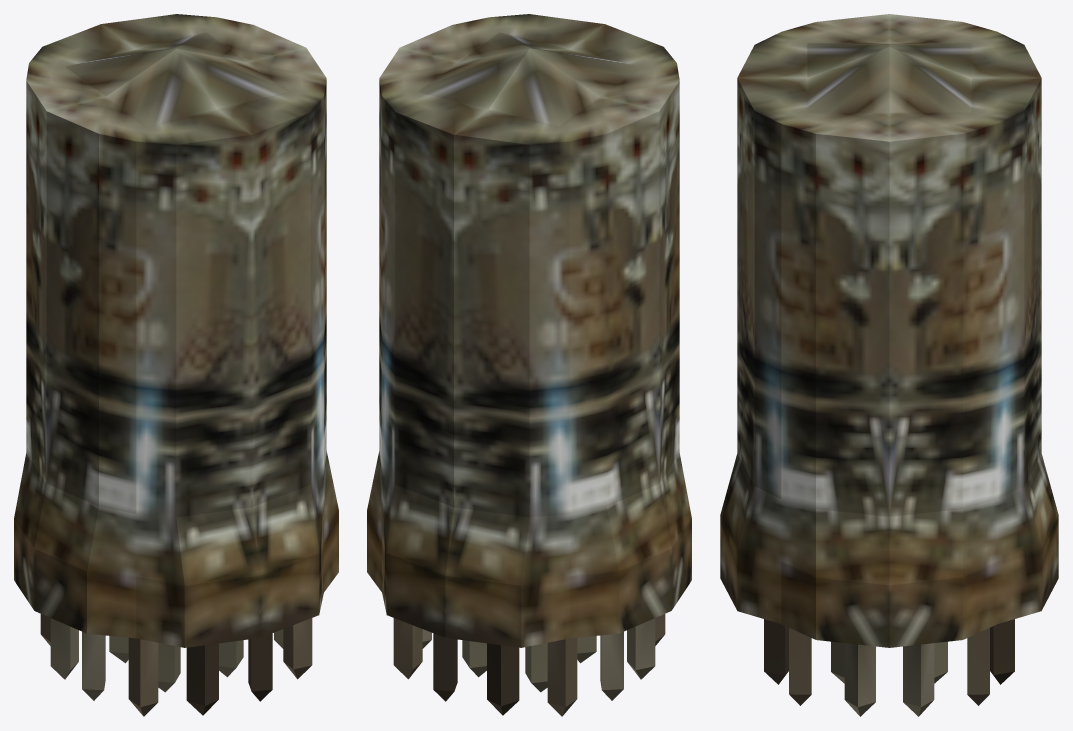
File: Diod.fbx
3 views of the same model, side by side, from view 1: azimuth 30°, elevation 25°; view 2: azimuth 150°, elevation 25°; view 3: azimuth 270°, elevation 25° (orthographic).
Visible parts, largest first — view 1: Cube; view 2: Cube; view 3: Cube.
Boxes of the visible parts, box(x1,y1,x2,y2) form: Cube: box(14, 14, 338, 716); Cube: box(367, 14, 691, 716); Cube: box(720, 14, 1058, 716).
Size of the model in its own units: 318 by 664 by 326.
1 material, 1 textured.
